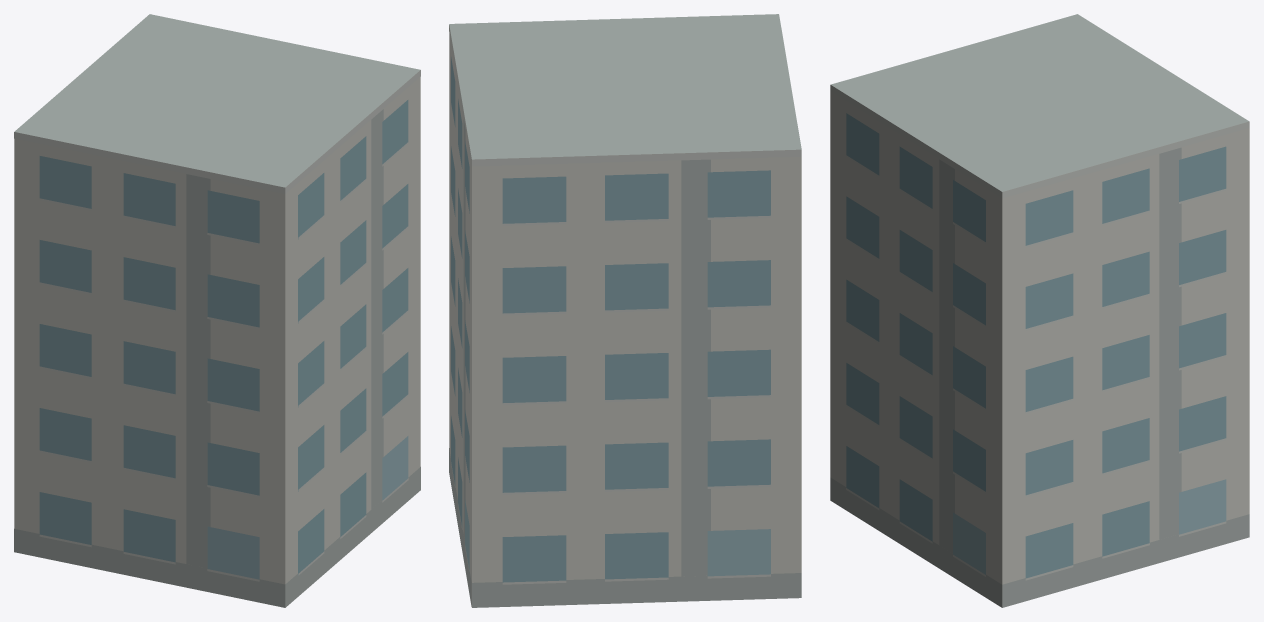
The model's file is residential-40b60d8f-589c-4793-8e50-d1a4fca00c1f.glb.
3 views of the same model, side by side, from view 1: azimuth 30°, elevation 25°; view 2: azimuth 150°, elevation 25°; view 3: azimuth 270°, elevation 25° (orthographic). The views are drawn at different scales.
Visible parts, largest first — view 1: residential-40b60d8f-589c-4793-8e50-d1a4fca00c1f.tmp; view 2: residential-40b60d8f-589c-4793-8e50-d1a4fca00c1f.tmp; view 3: residential-40b60d8f-589c-4793-8e50-d1a4fca00c1f.tmp.
Part boxes in pixels (x1=…): residential-40b60d8f-589c-4793-8e50-d1a4fca00c1f.tmp: x1=14, y1=14, x2=420, y2=607; residential-40b60d8f-589c-4793-8e50-d1a4fca00c1f.tmp: x1=449, y1=14, x2=801, y2=607; residential-40b60d8f-589c-4793-8e50-d1a4fca00c1f.tmp: x1=830, y1=14, x2=1249, y2=607.
Size of the model in its own units: 14 by 15.25 by 13.94.
